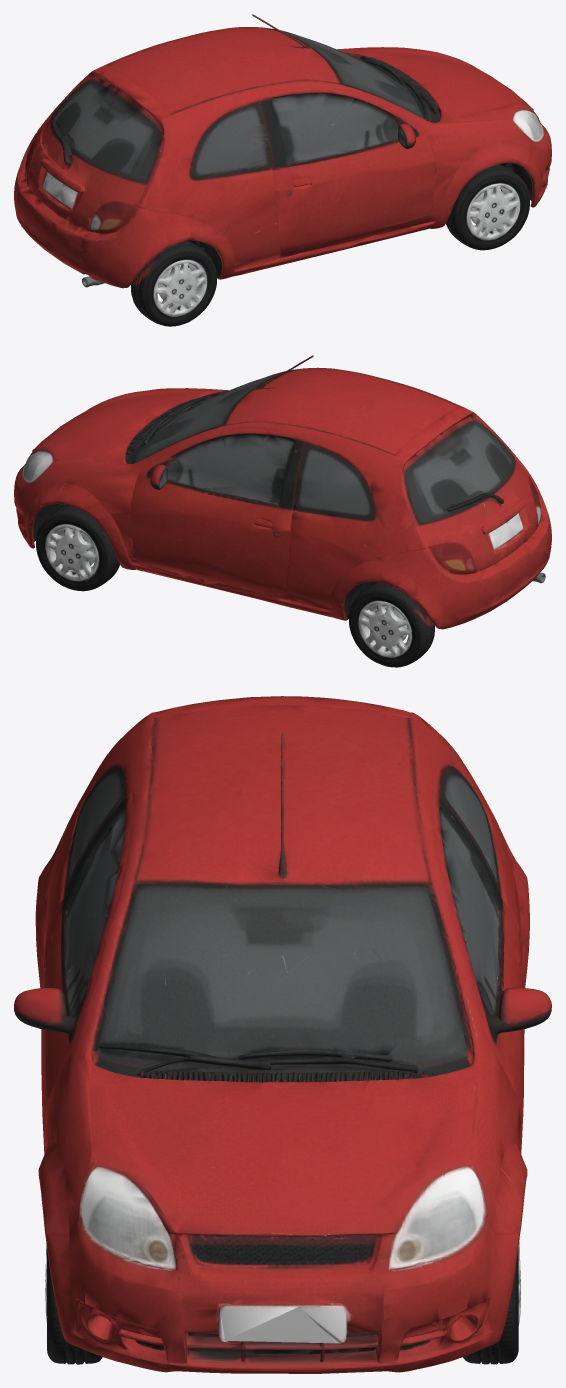
Rendered from sagui__01a1697e.glb.
3 renders of one model, top to bottom at view 1: azimuth 30°, elevation 25°; view 2: azimuth 150°, elevation 25°; view 3: azimuth 270°, elevation 25°, orthographic. The views are drawn at different scales.
Parts seen in each view (by area): view 1: sagui__01a1697e; view 2: sagui__01a1697e; view 3: sagui__01a1697e.
Boxes of the visible parts, x1=… form: sagui__01a1697e: x1=14, y1=14, x2=551, y2=326; sagui__01a1697e: x1=14, y1=355, x2=551, y2=667; sagui__01a1697e: x1=14, y1=696, x2=551, y2=1373.
Size of the model in its own units: 3.84 by 1.8 by 1.94.
Materials: 1 (1 with a texture image).
